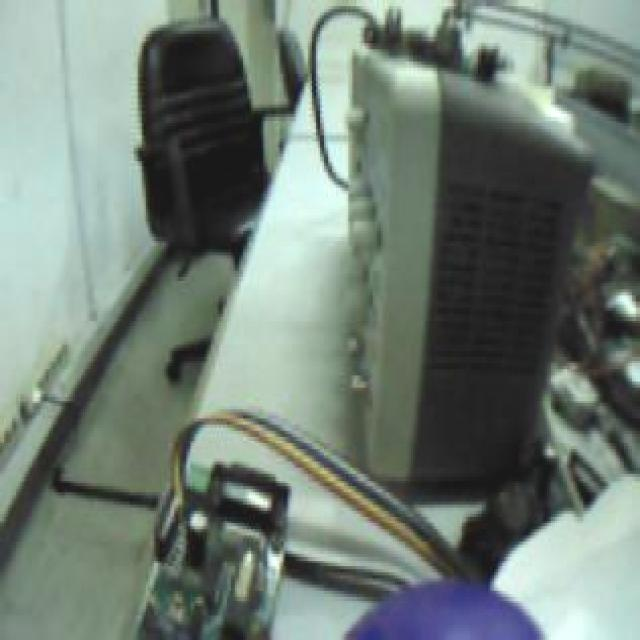BallPurple: (345, 572, 545, 640)
